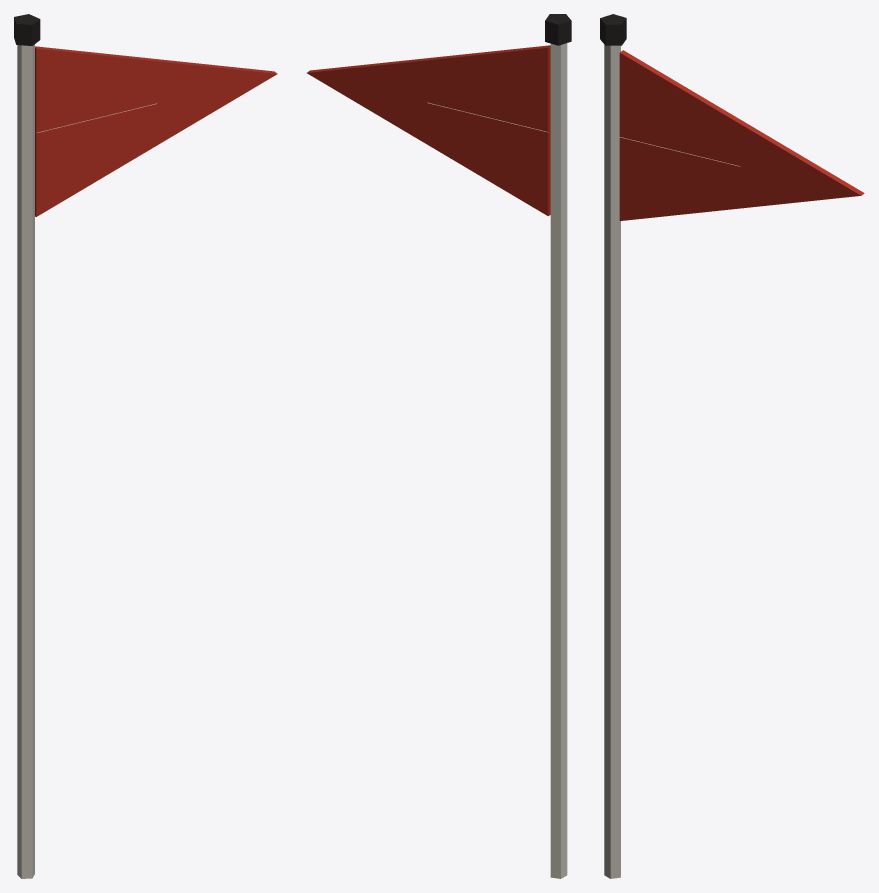
File: flag_marker.glb
3 renders of one model, left to right at view 1: azimuth 30°, elevation 25°; view 2: azimuth 150°, elevation 25°; view 3: azimuth 330°, elevation 25°, orthographic.
Parts seen in each view (by area): view 1: flag_marker; view 2: flag_marker; view 3: flag_marker.
Part boxes in pixels (left/top/right/bottom): flag_marker: left=14, top=14, right=277, bottom=878; flag_marker: left=307, top=14, right=571, bottom=878; flag_marker: left=600, top=14, right=864, bottom=878.
Size of the model in its own units: 0.6492 by 2.03 by 0.0555.
